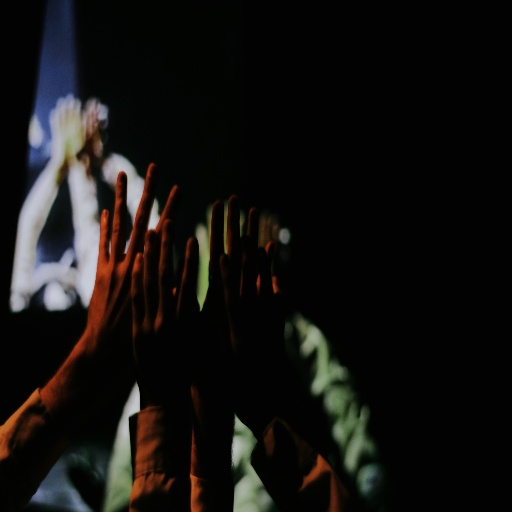hand: (54, 155, 177, 421), (191, 192, 263, 419), (128, 217, 199, 407), (234, 236, 290, 434), (53, 90, 84, 168), (48, 105, 72, 168), (83, 94, 103, 165)
